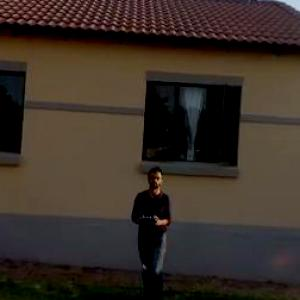follow: (125, 157, 176, 299)
